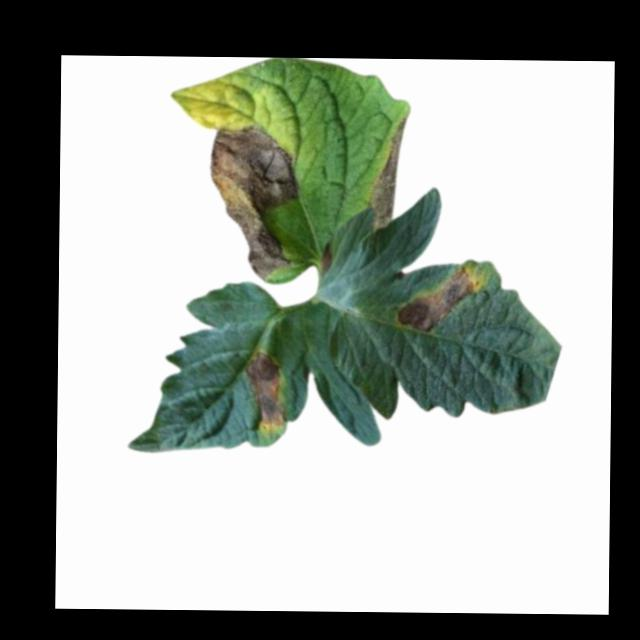Early_blight: (209, 126, 302, 280), (398, 268, 486, 334), (370, 115, 406, 232), (244, 351, 290, 431), (318, 243, 333, 276)
